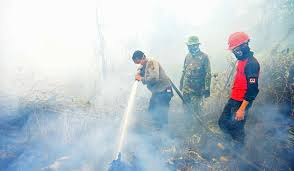smoke: (17, 63, 139, 163), (242, 102, 286, 164)
